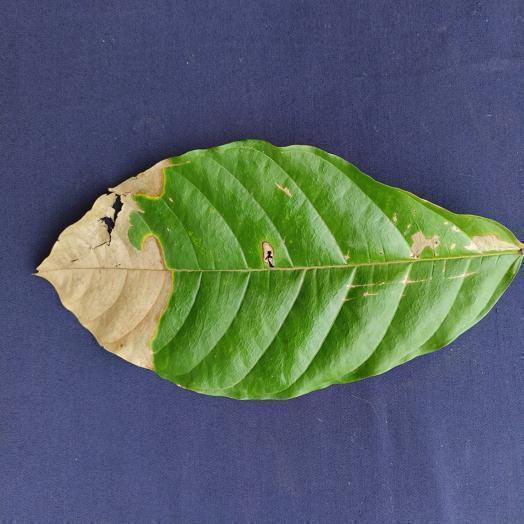Potassium: (38, 140, 520, 399)
